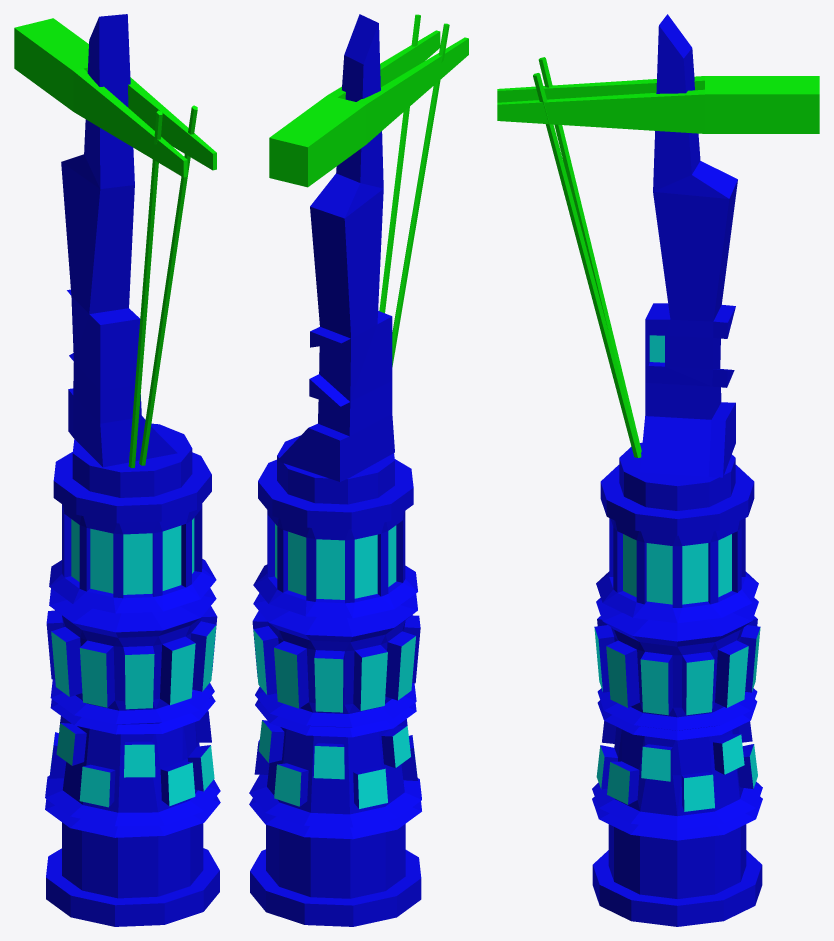
Rendered from bbb.FBX.
3 views of the same model, side by side, from view 1: azimuth 30°, elevation 25°; view 2: azimuth 150°, elevation 25°; view 3: azimuth 270°, elevation 25° (orthographic). The views are drawn at different scales.
Visible parts, largest first — view 1: Box001; view 2: Box001; view 3: Box001.
Boxes of the visible parts, x1=… form: Box001: x1=14, y1=14, x2=220, y2=926; Box001: x1=249, y1=14, x2=468, y2=926; Box001: x1=497, y1=14, x2=819, y2=926.
Size of the model in its own units: 43.96 by 246 by 83.75.
